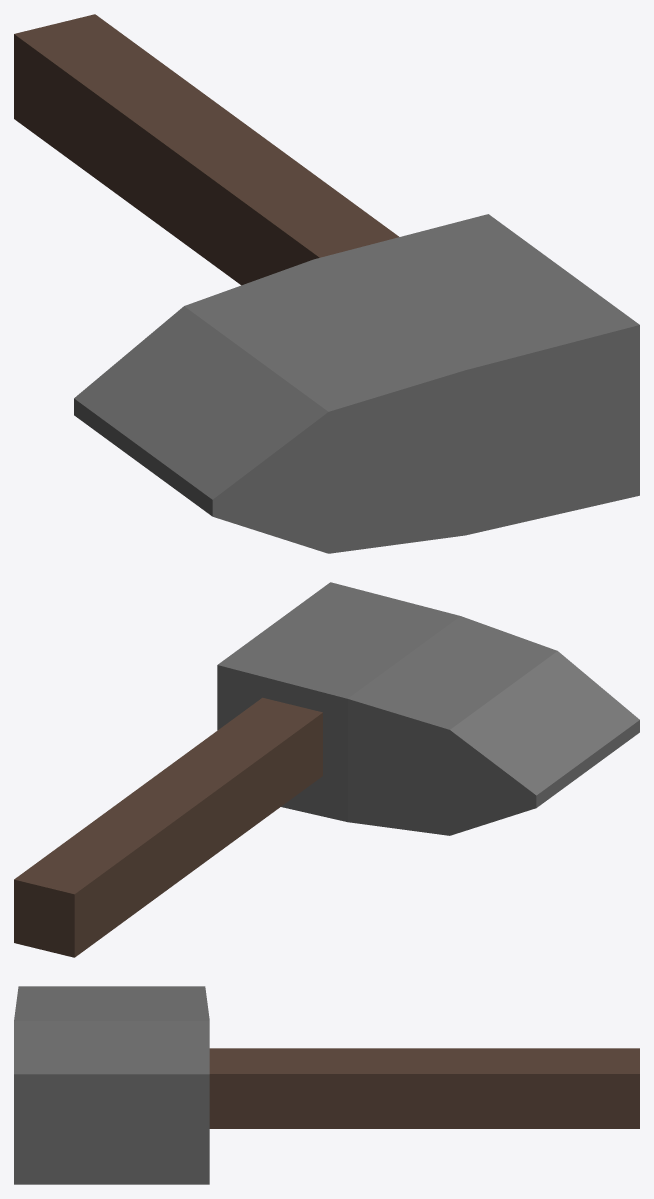
The model's file is Item_Tool_Axe_SimpleAxe.fbx.
3 renders of one model, top to bottom at view 1: azimuth 30°, elevation 25°; view 2: azimuth 150°, elevation 25°; view 3: azimuth 270°, elevation 25°, orthographic. The views are drawn at different scales.
Parts seen in each view (by area): view 1: Item_Tool_Axe_SimpleAxe; view 2: Item_Tool_Axe_SimpleAxe; view 3: Item_Tool_Axe_SimpleAxe.
Part boxes in pixels (<box>): Item_Tool_Axe_SimpleAxe: <box>14,14,639,553</box>; Item_Tool_Axe_SimpleAxe: <box>14,582,639,957</box>; Item_Tool_Axe_SimpleAxe: <box>14,986,639,1184</box>.
Bounding box in the file's own units: 1.44 × 0.5579 × 2.87.
